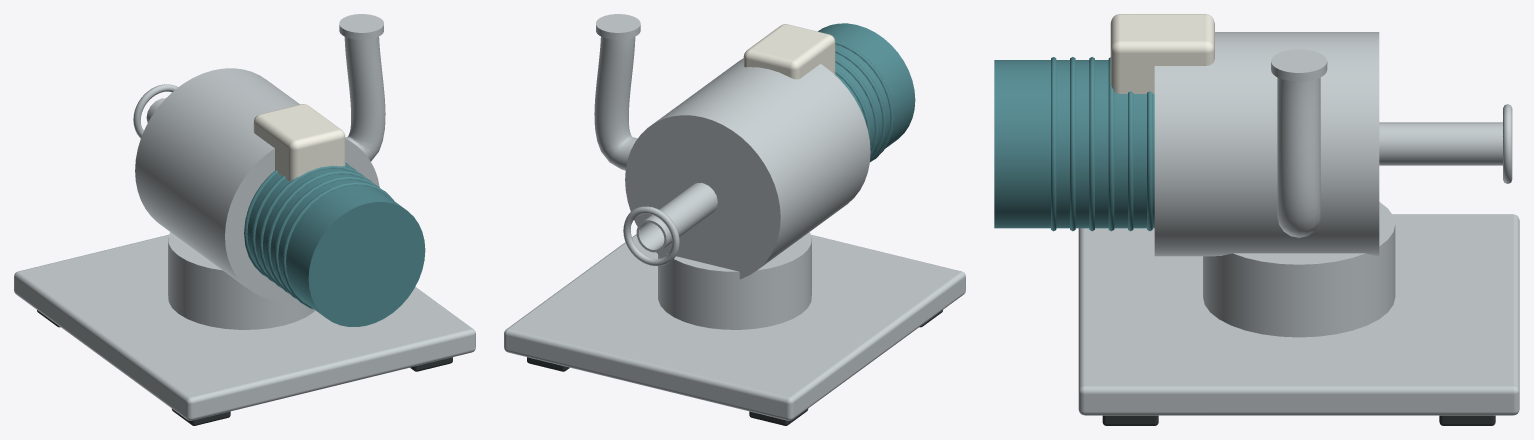
Rendered from cheesemaking-and-dairy-cellar-whey-transfer-pump-049f7a65__30870.glb.
The picture shows the model from 3 angles, left to right: view 1: azimuth 30°, elevation 25°; view 2: azimuth 150°, elevation 25°; view 3: azimuth 270°, elevation 25°; orthographic projection. The views are drawn at different scales.
Visible parts, largest first — view 1: whey-transfer-pump; view 2: whey-transfer-pump; view 3: whey-transfer-pump.
Part boxes in pixels (x1,y1,x2,y2): whey-transfer-pump: (14,14,475,425); whey-transfer-pump: (504,14,965,425); whey-transfer-pump: (994,14,1519,425).
Bounding box in the file's own units: 0.52 × 0.492 × 0.655.
